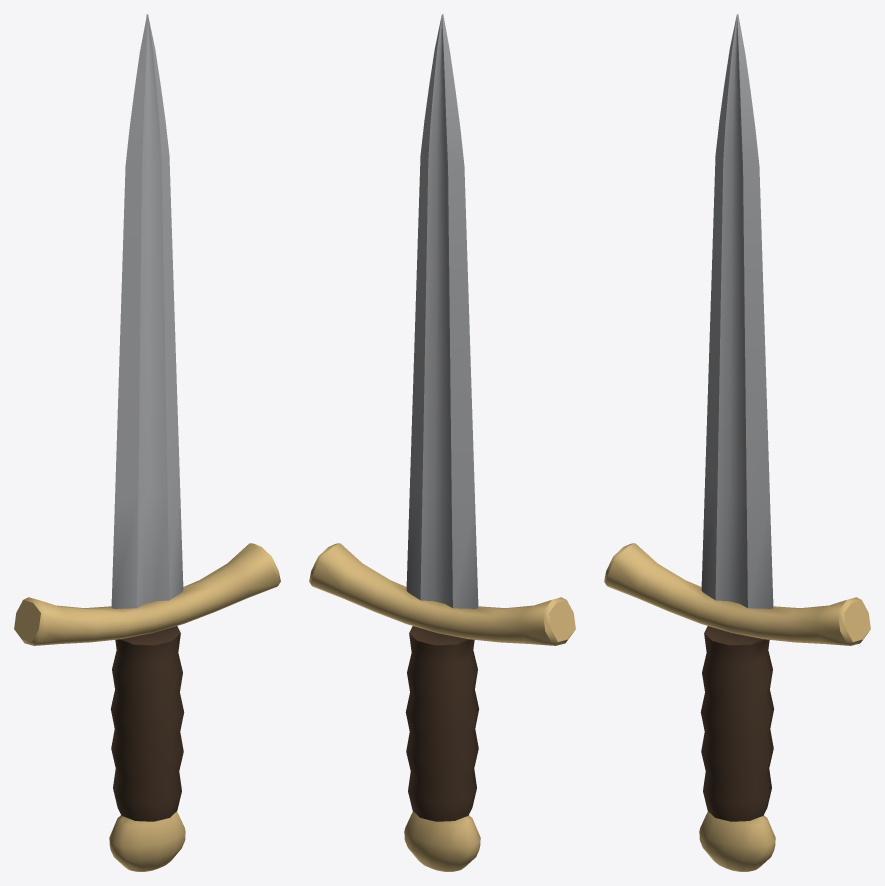
Rendered from dagger.glb.
3 views of the same model, side by side, from view 1: azimuth 30°, elevation 25°; view 2: azimuth 150°, elevation 25°; view 3: azimuth 330°, elevation 25° (orthographic).
Visible parts, largest first — view 1: dagger; view 2: dagger; view 3: dagger.
Boxes of the visible parts, left/top/right/bottom form: dagger: left=14, top=14, right=280, bottom=871; dagger: left=309, top=14, right=575, bottom=871; dagger: left=604, top=14, right=870, bottom=871.
Size of the model in its own units: 0.1257 by 0.4082 by 0.0304.
